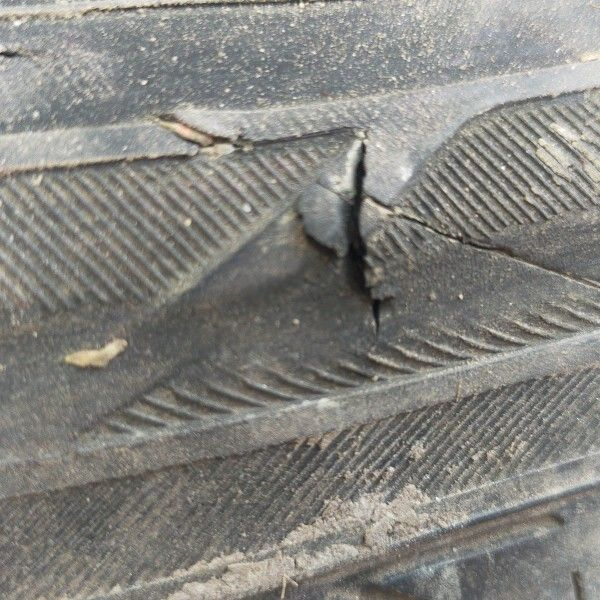cut: (286, 120, 599, 352)
